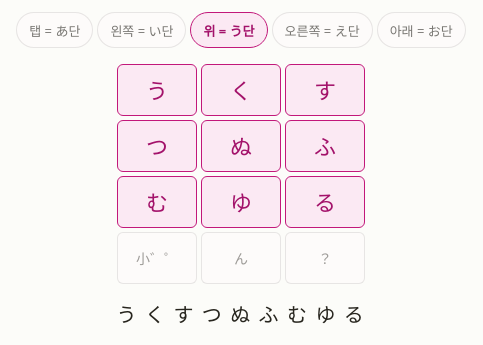
Scenario: VowelTour › 3.2초마다 다음 방향으로 넘어가고, 방향을 직접 고르면 자동 전환을 멈춘다
The image size is (483, 345).
Click the button "탭 = あ단" at (55, 30), box x1=16 y1=12 x2=93 y2=48
Wait 10000 ms
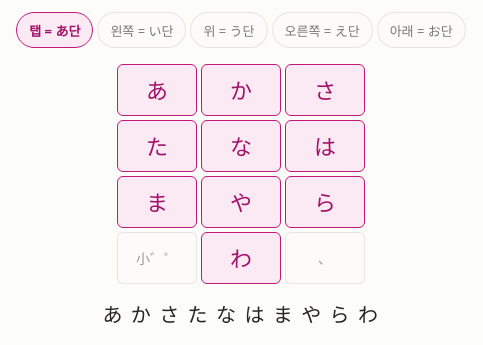
Now the text with test id "dan-row" reads "あ か さ た な は ま や ら わ", box x1=102 y1=301 x2=380 y2=328
